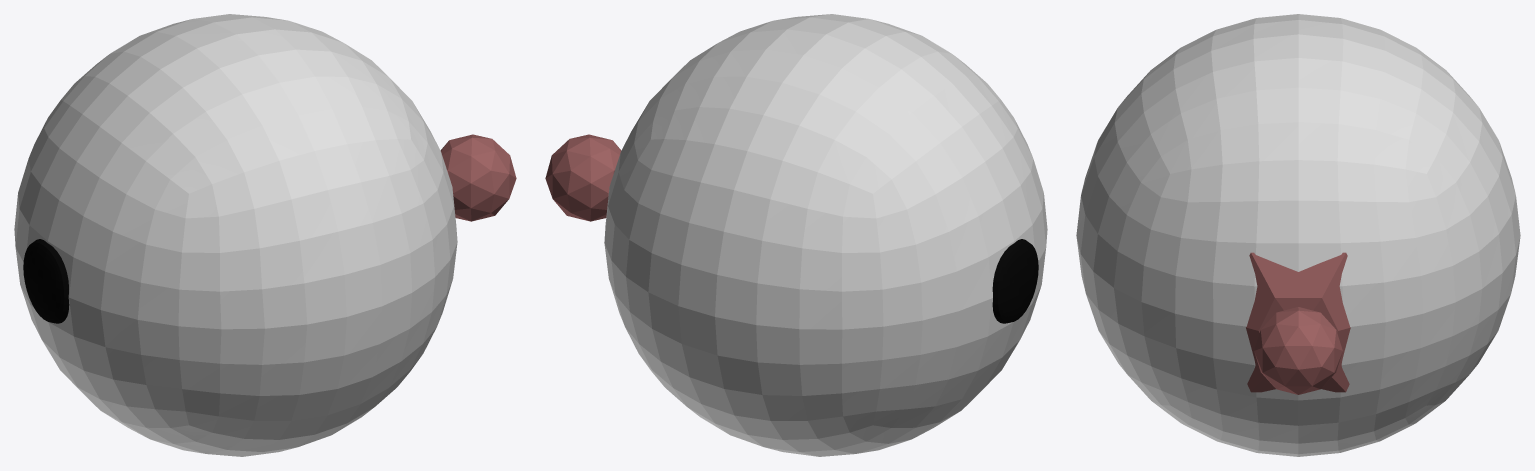
The model's file is EyeRight.obj.
3 renders of one model, left to right at view 1: azimuth 30°, elevation 25°; view 2: azimuth 150°, elevation 25°; view 3: azimuth 270°, elevation 25°, orthographic.
Parts seen in each view (by area): view 1: EyeRight; view 2: EyeRight; view 3: EyeRight.
Part boxes in pixels (left/top/right/bottom): EyeRight: left=14, top=14, right=516, bottom=456; EyeRight: left=545, top=14, right=1047, bottom=456; EyeRight: left=1076, top=14, right=1520, bottom=456.
Size of the model in its own units: 1.23 by 1 by 1.
